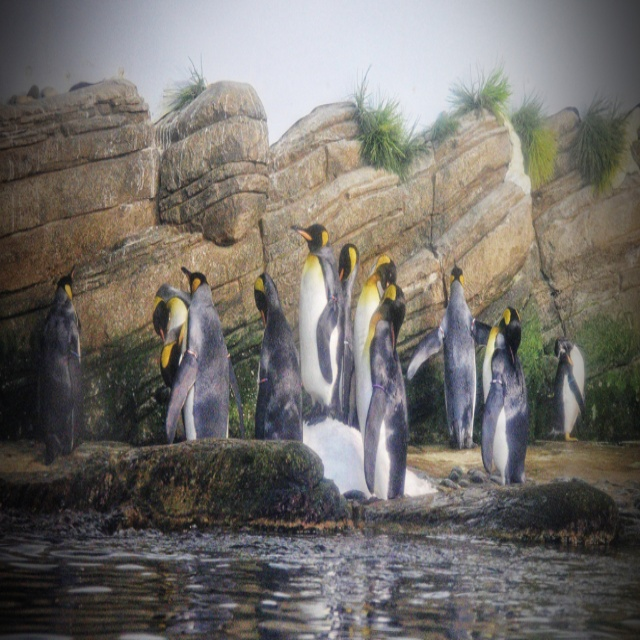Penguin: (342, 276, 405, 506), (403, 262, 476, 441), (156, 262, 229, 436), (482, 297, 536, 493), (250, 274, 303, 445), (292, 223, 337, 417), (355, 247, 400, 440), (46, 267, 88, 448), (542, 329, 592, 436), (150, 287, 193, 392)
